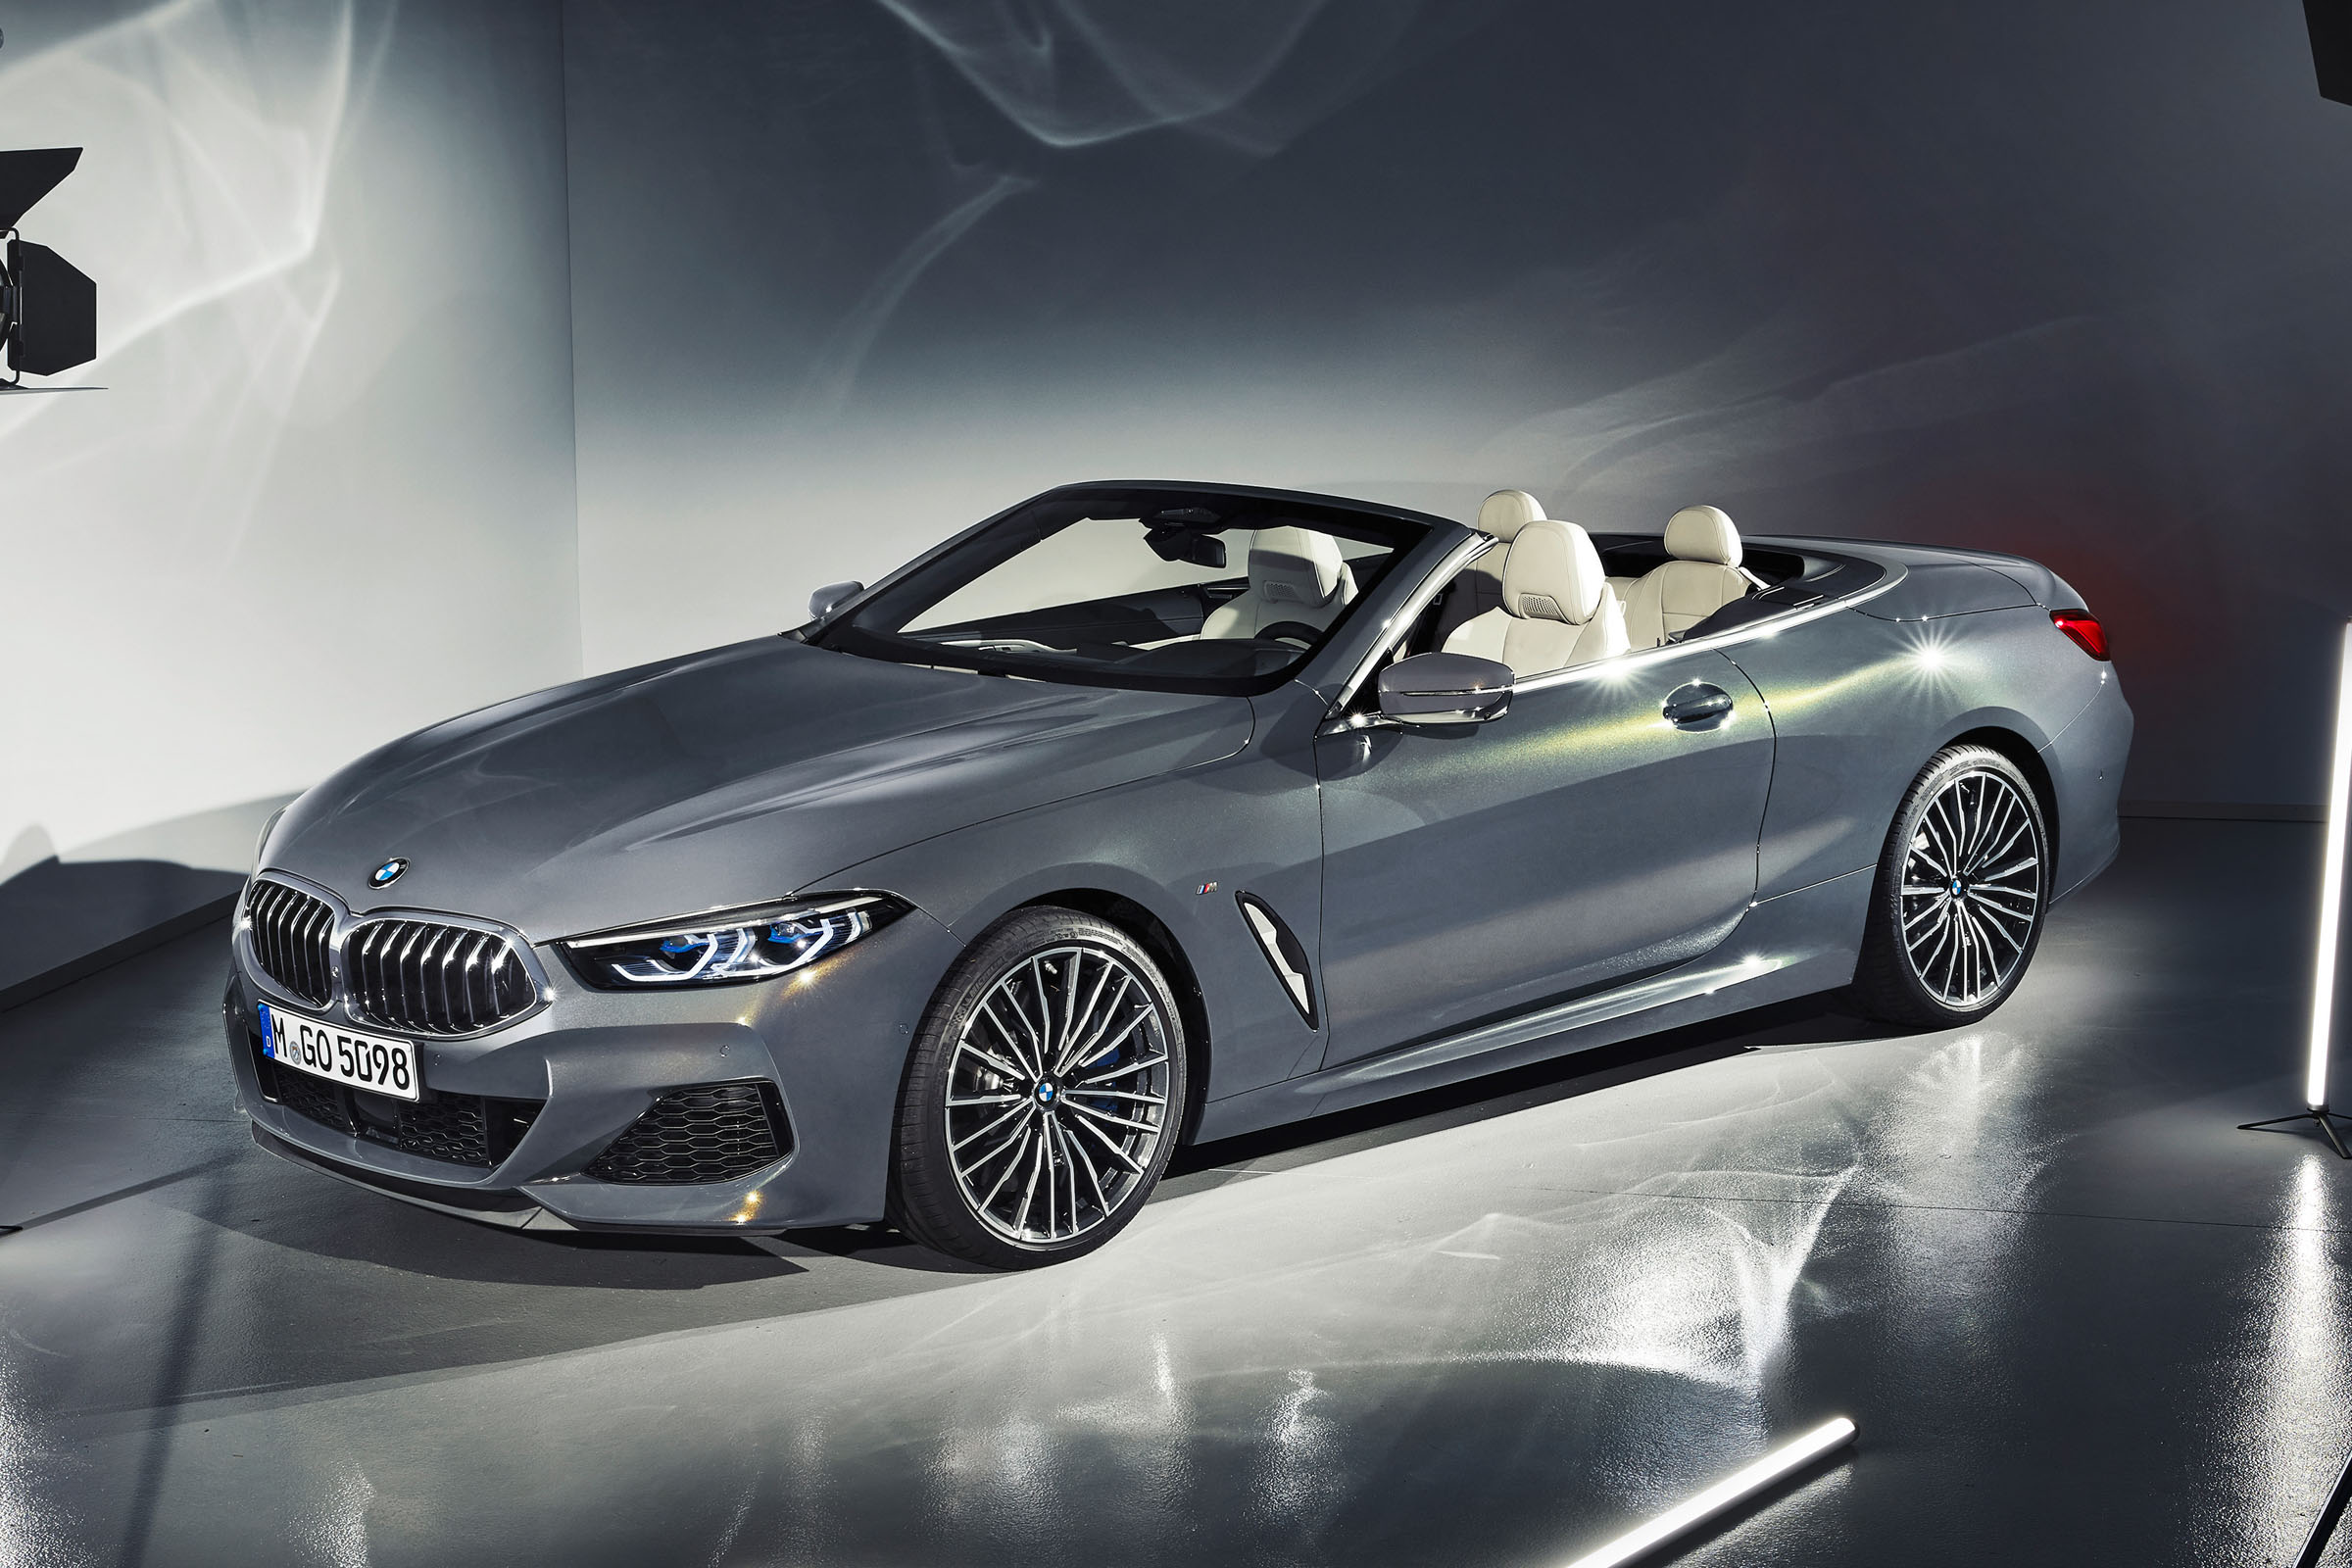car: (222, 480, 2137, 1277)
